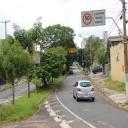speed_limit_50: (82, 13, 92, 24)
